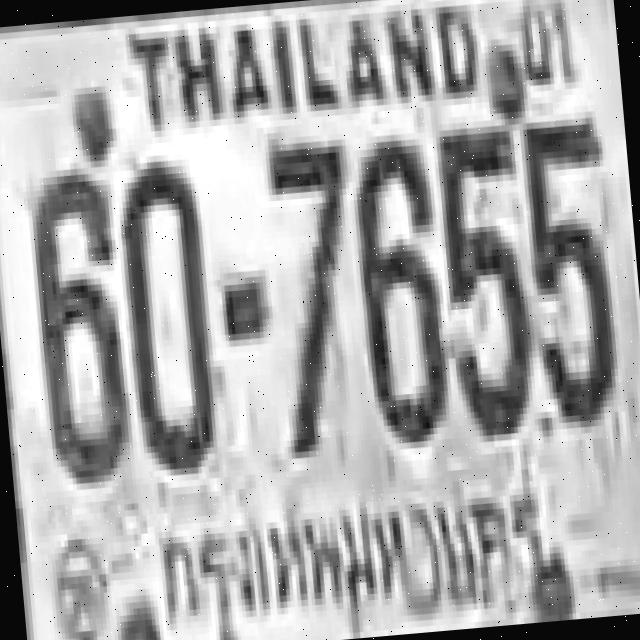0: (112, 152, 220, 472)
5: (518, 110, 622, 424), (431, 122, 535, 434)
6: (24, 160, 128, 480), (348, 132, 448, 439)
7: (262, 133, 366, 453)
Bangkok: (139, 478, 546, 640)
